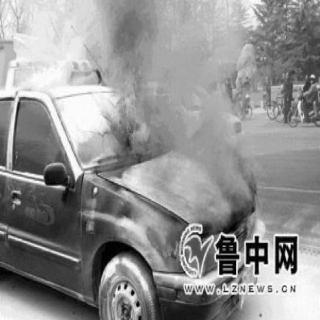Fire: (103, 31, 141, 147)
